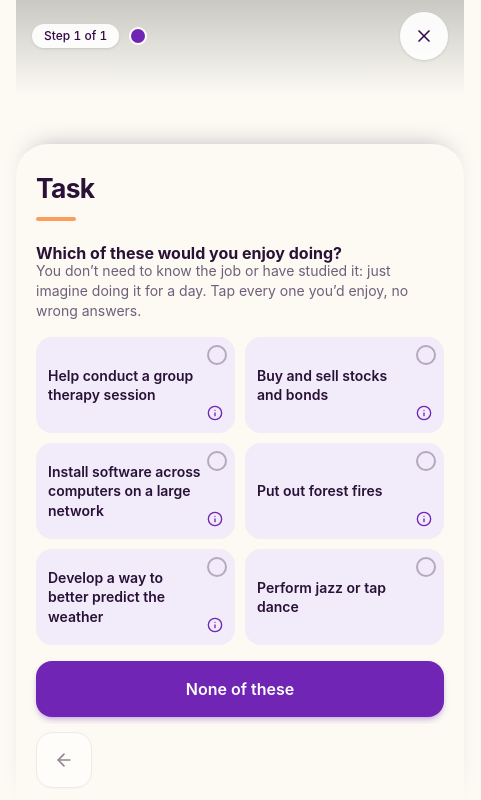
Test: Discover as a checklist › explains a specialised card on request without picking it
Click the 2nd button with test id "card-hint-toggle".
click(424, 413)  # box [406,395,442,431]
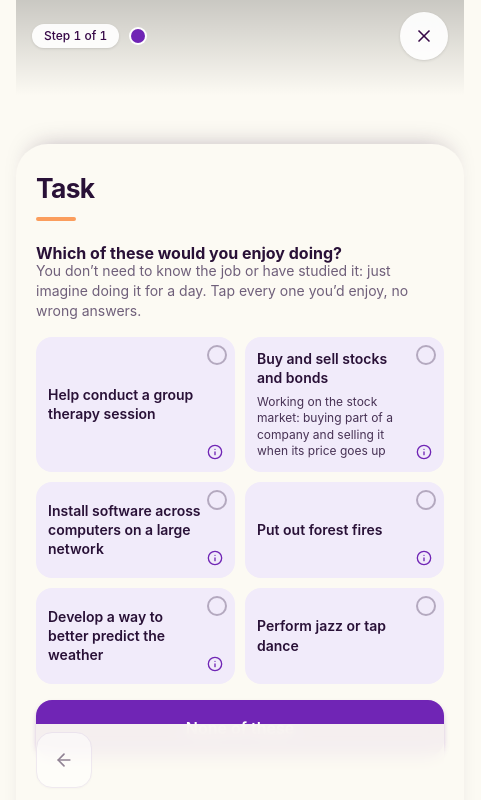
Check: the text with test id "card-hint" shows "stock market", box [257,394,393,458]
Check: the button with test id "card-hint-toggle" is expanded, box [406,434,442,470]
